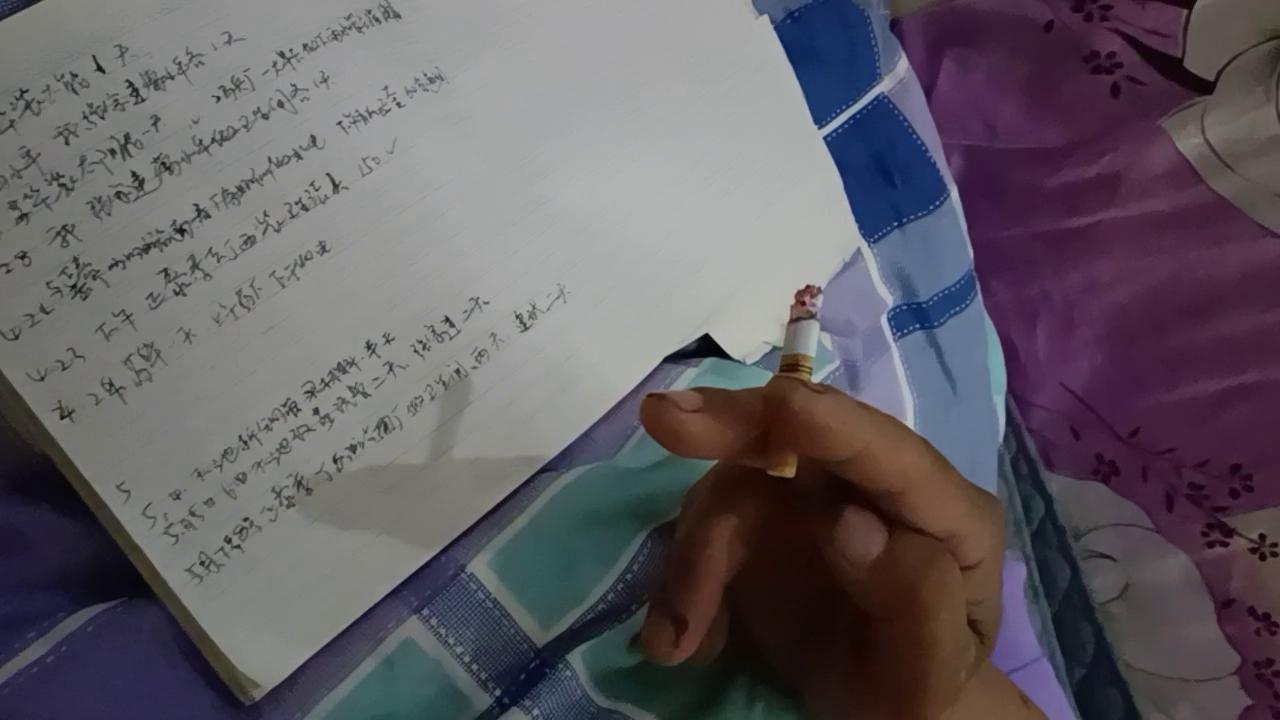smoke: (762, 284, 824, 478)
